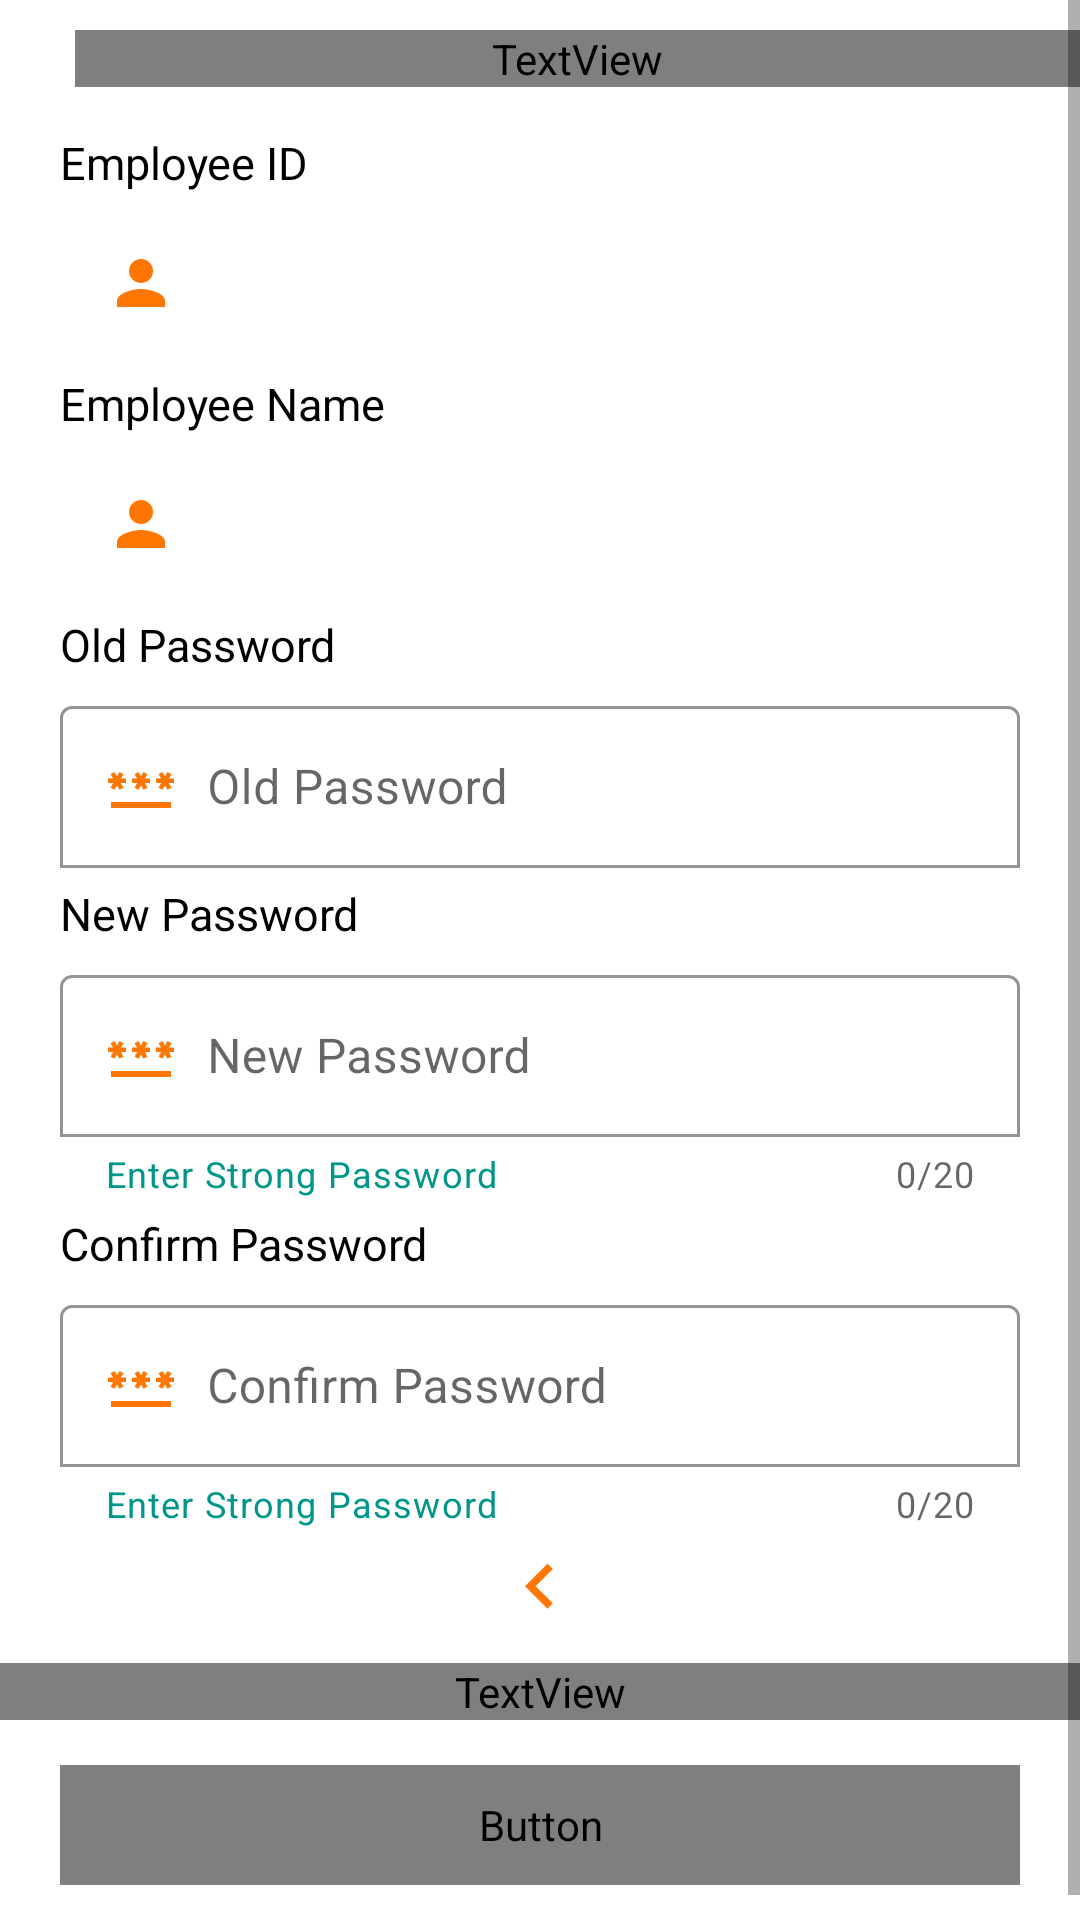

Icons on this 1080 × 1920 Android screen, each with its box as (x1, y1, x2, y2):
arrow left: (525, 1564, 553, 1609)
